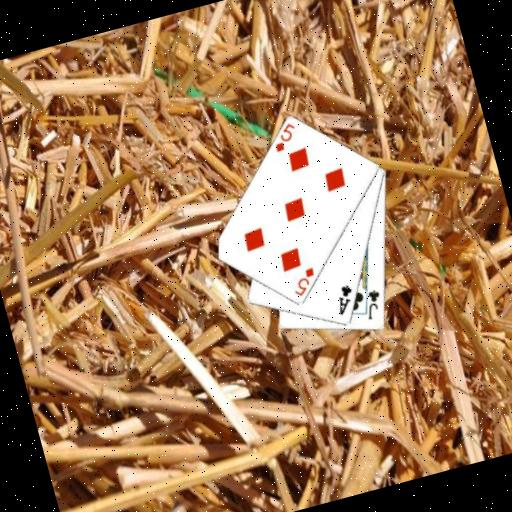5D: (285, 263, 321, 299), (266, 119, 301, 155)
AC: (329, 281, 359, 318)
JC: (358, 285, 388, 322)
